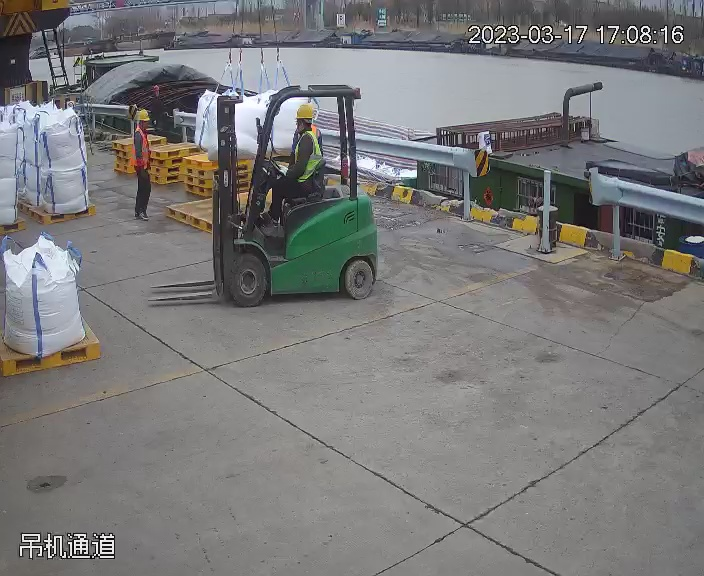head: (289, 101, 321, 153), (131, 107, 156, 154)
helmet: (294, 102, 317, 120), (136, 108, 150, 121)
people: (253, 103, 321, 234), (130, 107, 159, 221)
